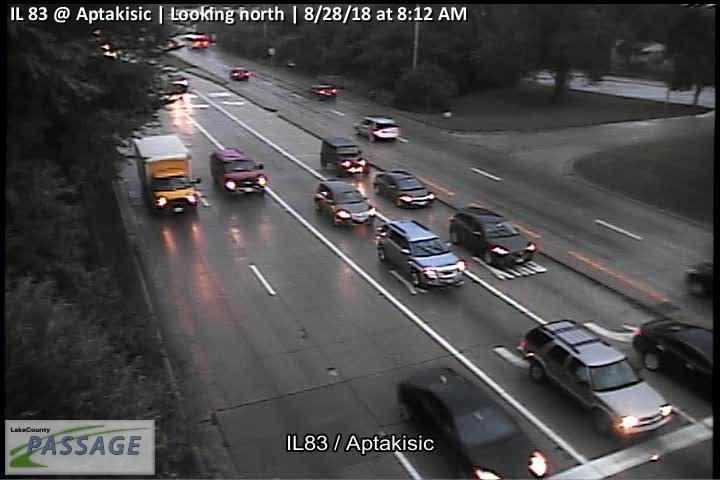SUV: (515, 319, 673, 440), (377, 220, 465, 288), (449, 205, 536, 267), (314, 181, 376, 227), (211, 149, 265, 195), (320, 137, 370, 177), (355, 117, 399, 143)
Sedan: (399, 366, 546, 480), (632, 317, 713, 401), (373, 170, 434, 208), (310, 84, 337, 102), (230, 67, 250, 81)
Truck: (133, 135, 202, 212)
